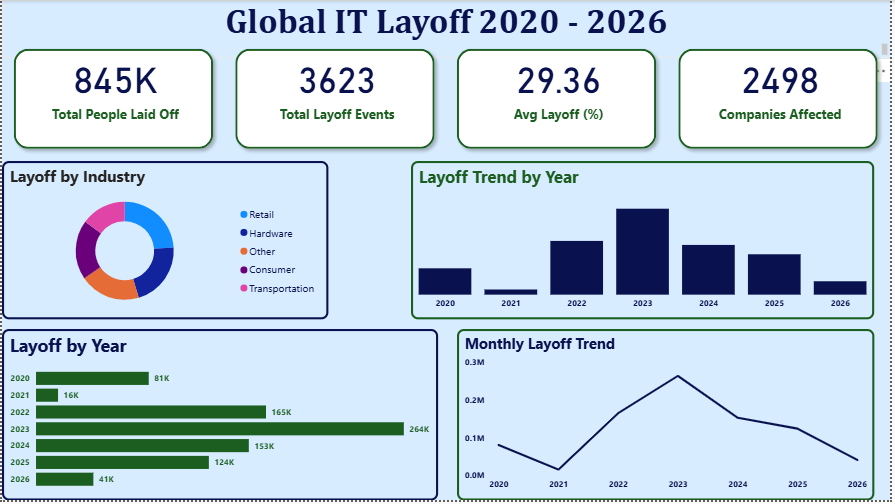

What the dashboard file says about the page in this screenshot:
{"tool":"powerbi","page":{"name":"Overview of Global IT Layoffs","canvas":[1280,720],"ordinal":0},"visuals":[{"type":"textbox","title":"Global IT Layoff 2020 - 2026","box":[0,0,1280,84],"z":0},{"type":"cardVisual","fields":{"Data":["public layoffs.Total_People_Laid_Off","public layoffs.Total_Layoff_Events","public layoffs.Avg_Layoff (%)","public layoffs.Total_Companies"]},"box":[0,53.8,1280,178.1],"z":1000},{"type":"clusteredBarChart","title":"Layoff by Year","fields":{"Y":["Sum(public layoffs.total_laid_off)"],"Category":["public layoffs.year"]},"box":[0,473.7,628.2,246.9],"z":2000},{"type":"lineChart","title":"Monthly Layoff Trend","fields":{"Y":["Sum(public layoffs.total_laid_off)"],"Category":["public layoffs.year"]},"box":[655.1,473.7,601.4,246.9],"z":3000},{"type":"donutChart","title":"Layoff by Industry","fields":{"Category":["public layoffs.industry"],"Y":["Sum(public layoffs.total_laid_off)"]},"box":[0,231.8,470.3,228.5],"z":4000},{"type":"columnChart","title":"Layoff Trend by Year","fields":{"Category":["public layoffs.year"],"Y":["Sum(public layoffs.total_laid_off)"]},"box":[589.6,231.8,666.9,228.5],"z":5000}]}

Visuals, with their boxes in screenshot pixels (x1, y1, x2, y2), scaled from the page's 1280x720 canvas onto the 895x504 screenshot:
"Global IT Layoff 2020 - 2026" textbox: <bbox>0, 0, 894, 59</bbox>
cardVisual - public layoffs.Total_People_Laid_Off x public layoffs.Total_Layoff_Events: <bbox>0, 38, 894, 162</bbox>
"Layoff by Year" clusteredBarChart: <bbox>0, 332, 439, 503</bbox>
"Monthly Layoff Trend" lineChart: <bbox>458, 332, 879, 503</bbox>
"Layoff by Industry" donutChart: <bbox>0, 162, 329, 322</bbox>
"Layoff Trend by Year" columnChart: <bbox>412, 162, 879, 322</bbox>
